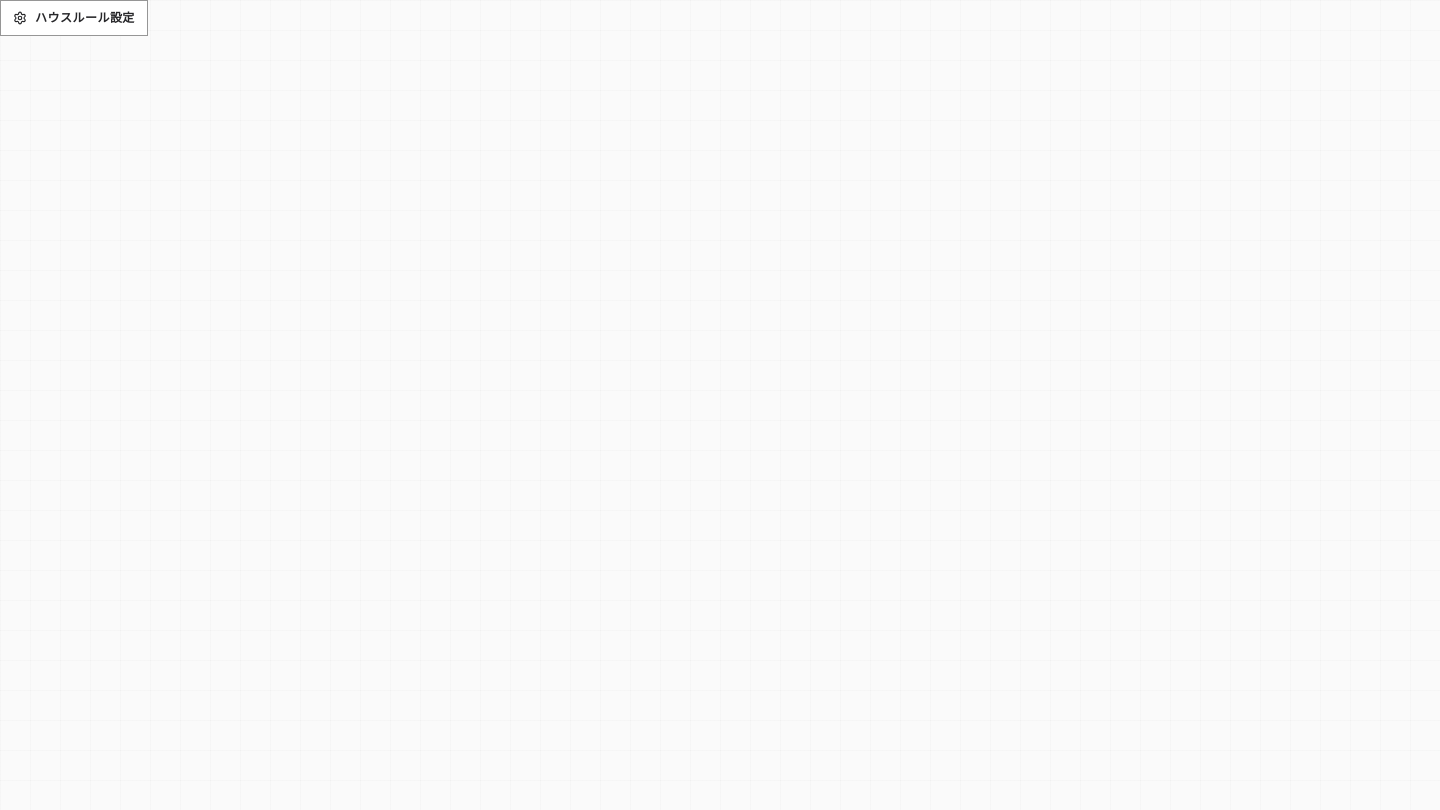
SettingsModal › デフォルトに戻すボタンは変更後に有効になり、channels を維持して初期値へ戻す
Later steps or results of the test are not shown.
Step 1. Click the button "ハウスルール設定" → (74, 18), box [0,0,148,36]
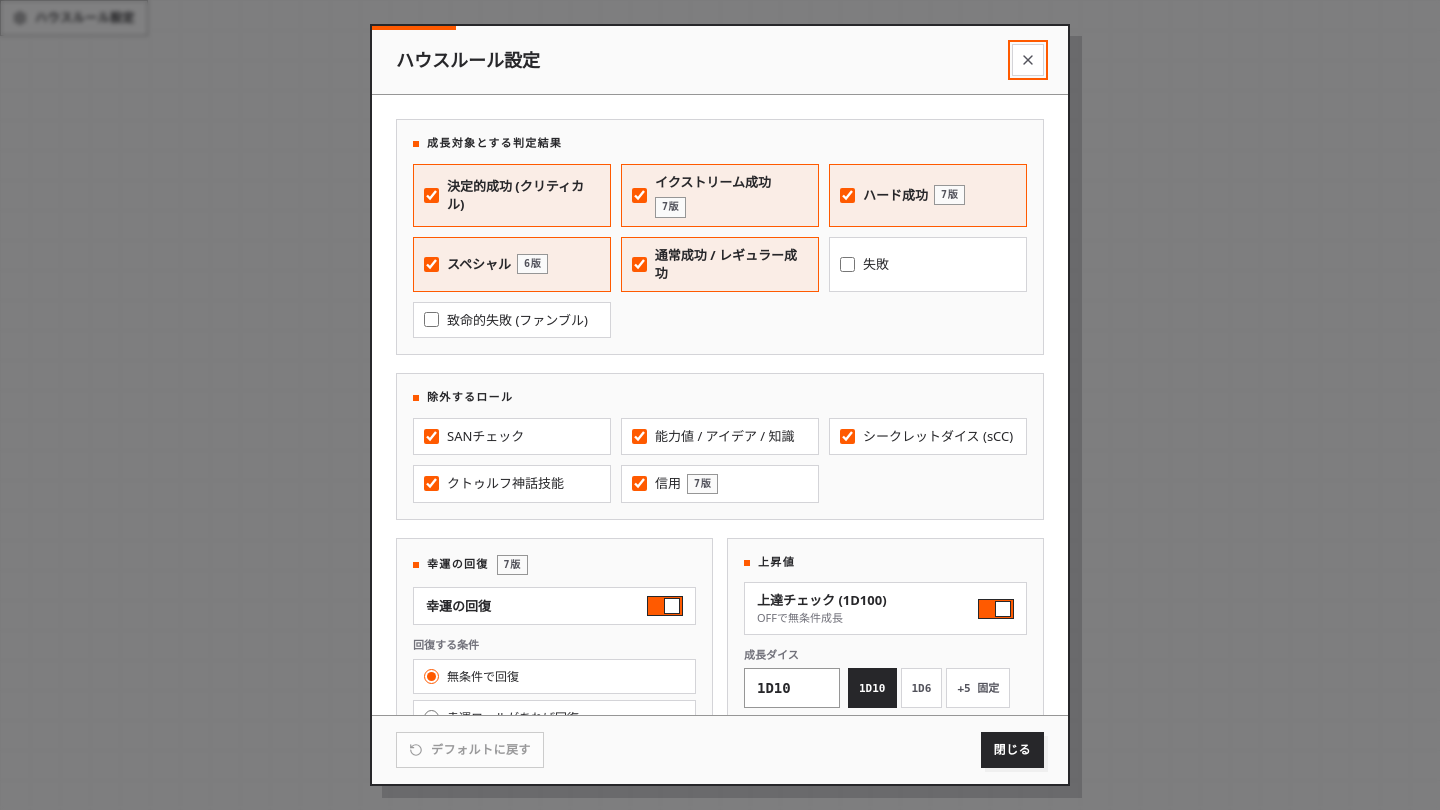
expect the button "デフォルトに戻す" is disabled: met, box [396,732,544,768]
Step 2. Click the checkbox labelled "致命的失敗 (ファンブル)" → (432, 320), box [424,312,439,328]
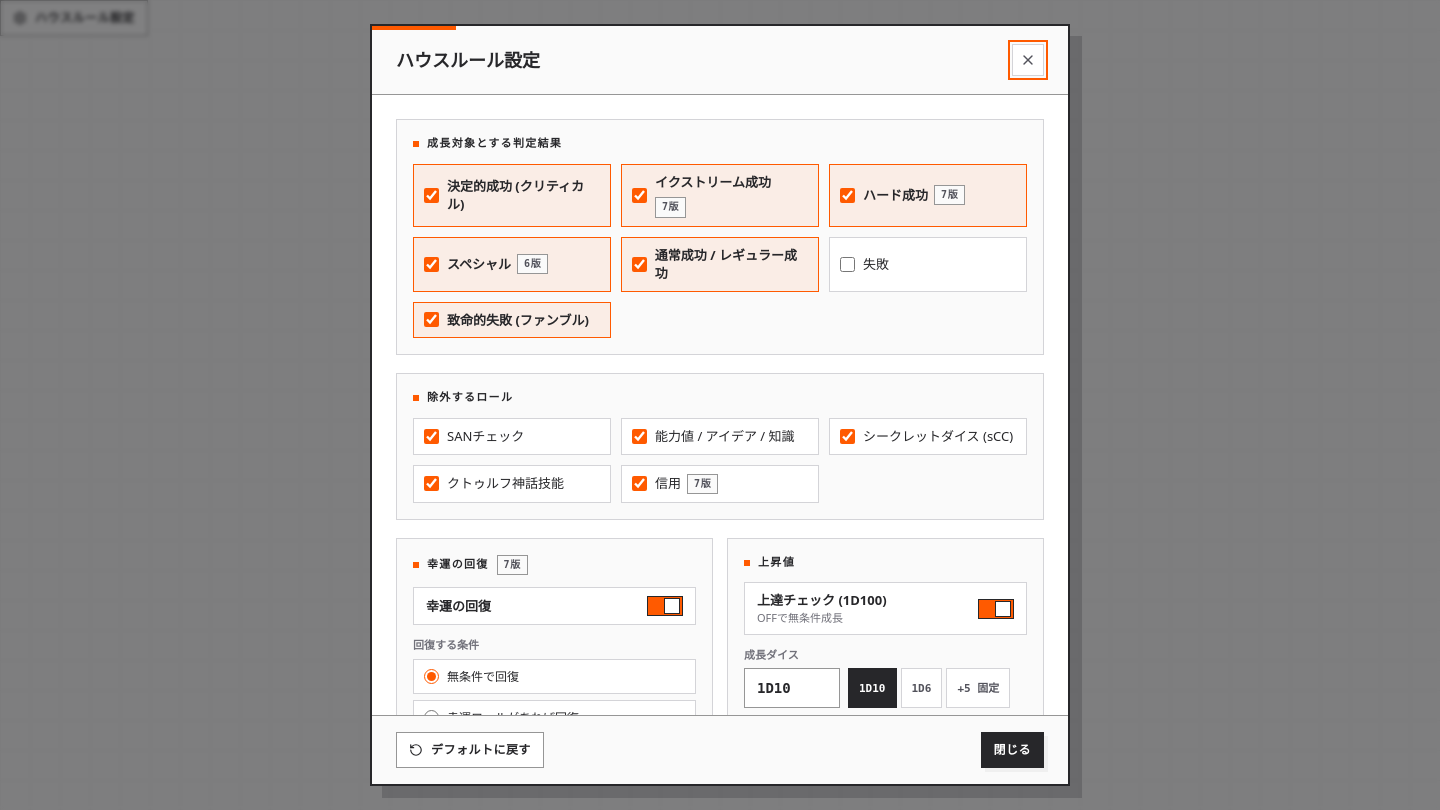
Step 3. Click the button "1D6" → (921, 688), box [900,668,942,708]
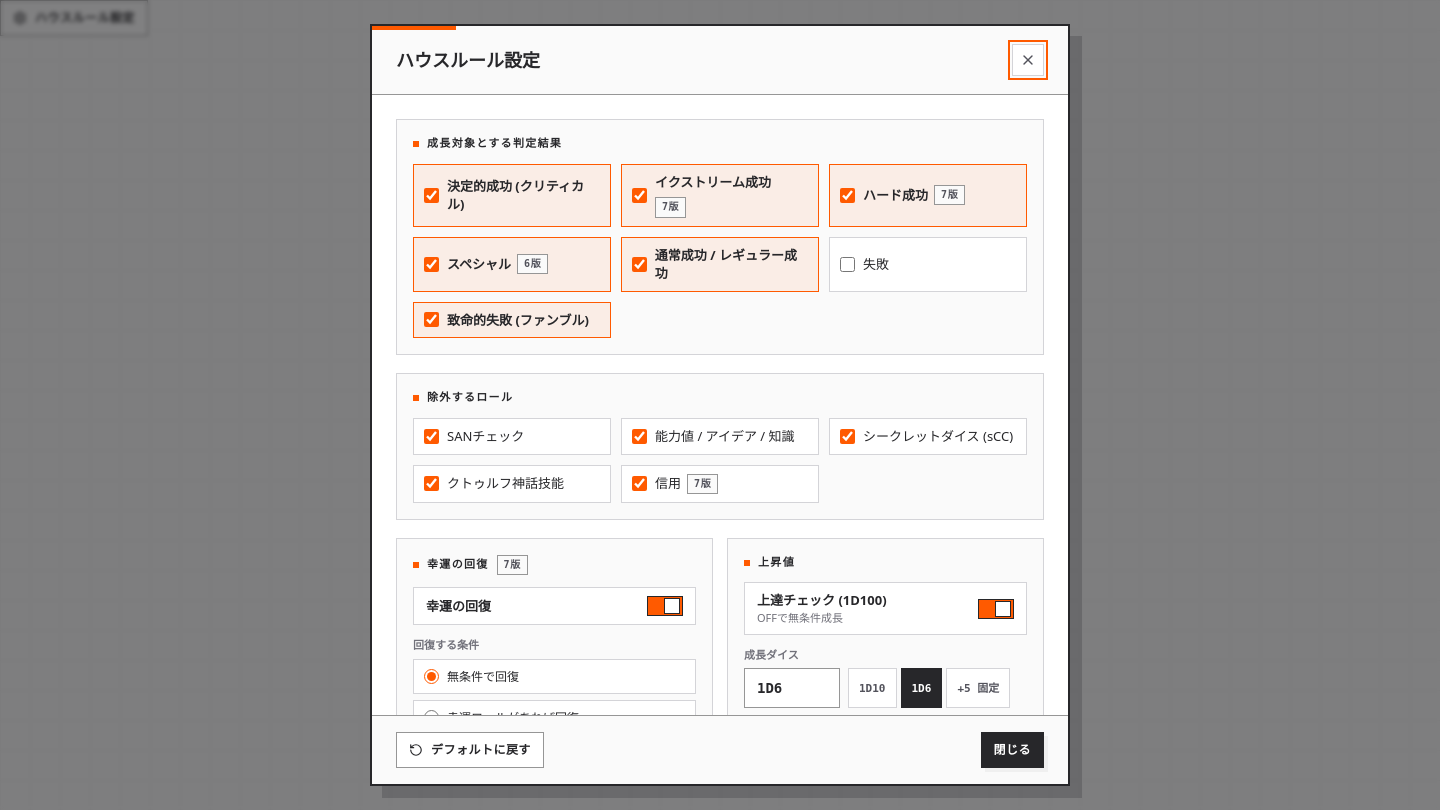
expect the button "デフォルトに戻す" is enabled: met, box [396,732,544,768]
